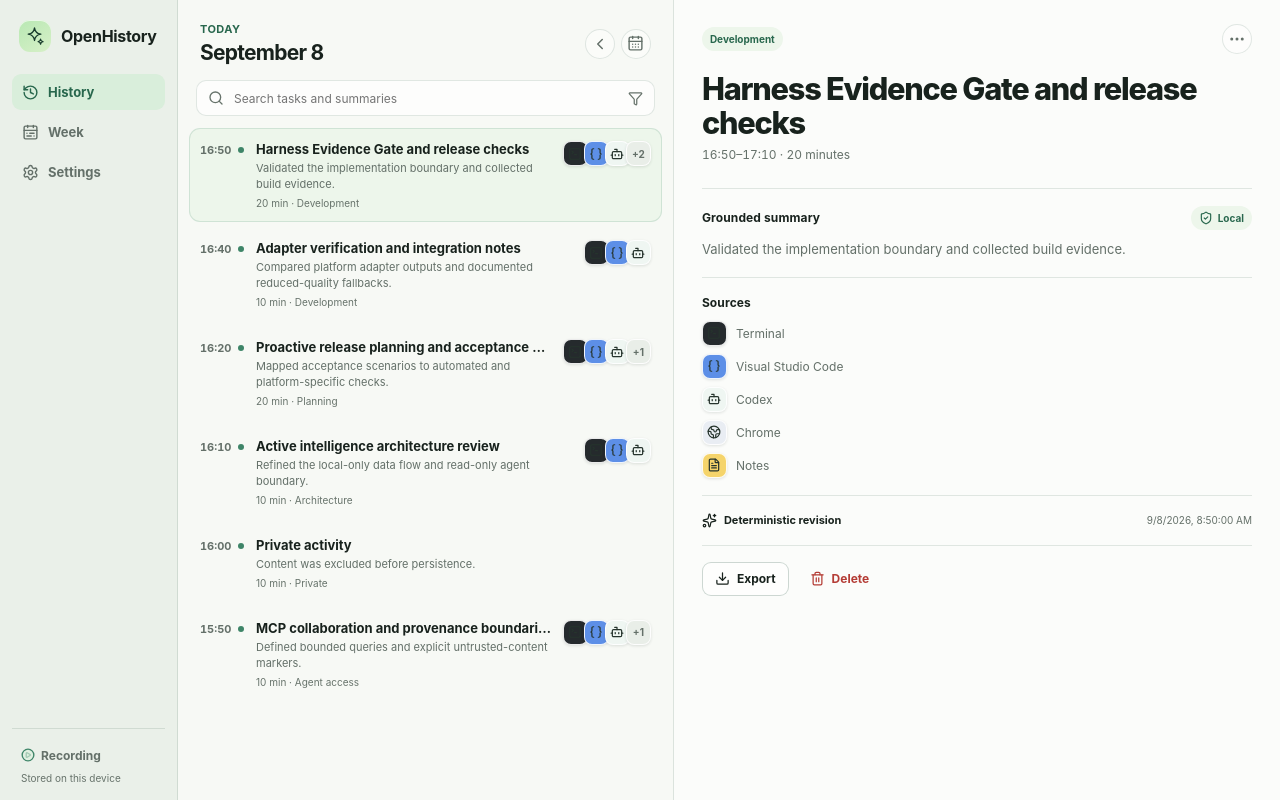
FullHistoryView › filters derived task titles and summaries
Type "architecture" into the search field named "Search history".
click(426, 98); type("architecture")  # box left=232, top=90, right=620, bottom=107
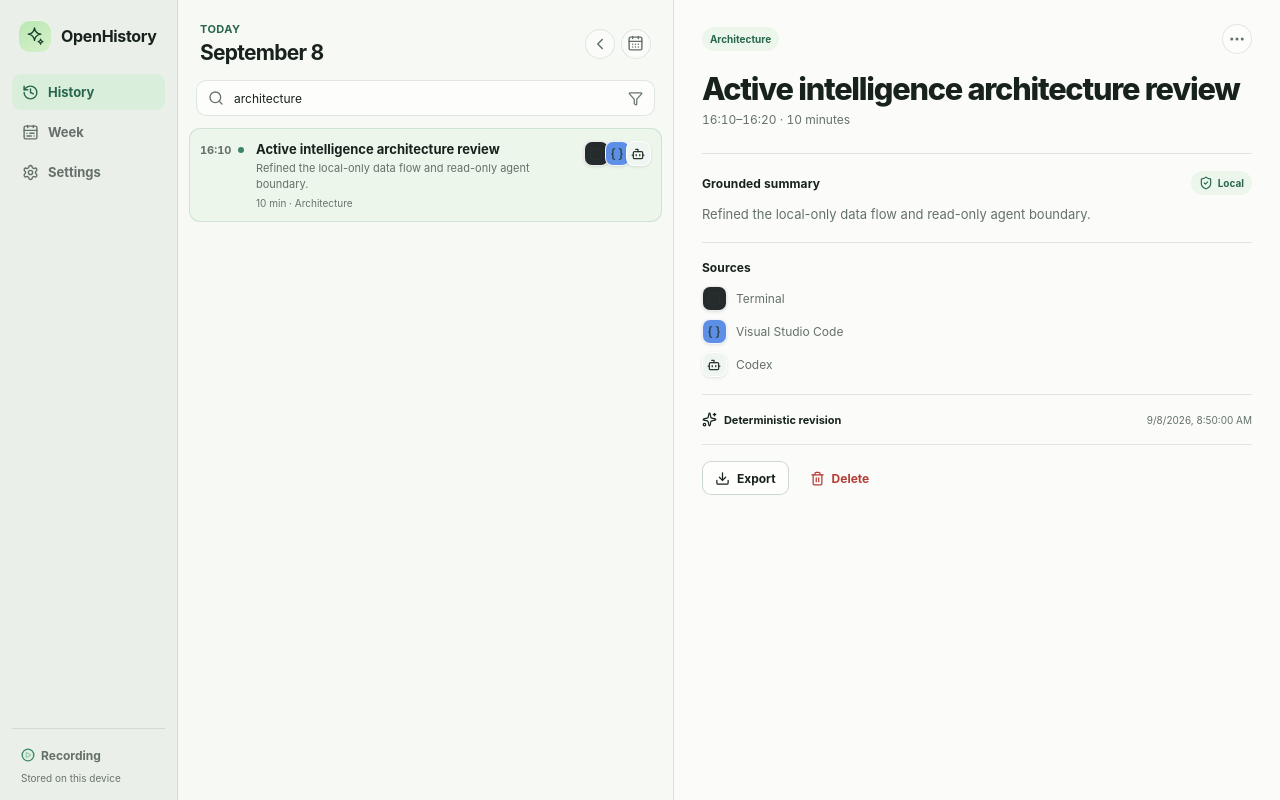
Check: the button "Active intelligence architecture review" is shown, box left=189, top=128, right=662, bottom=222
Check: the button "Adapter verification" is gone
